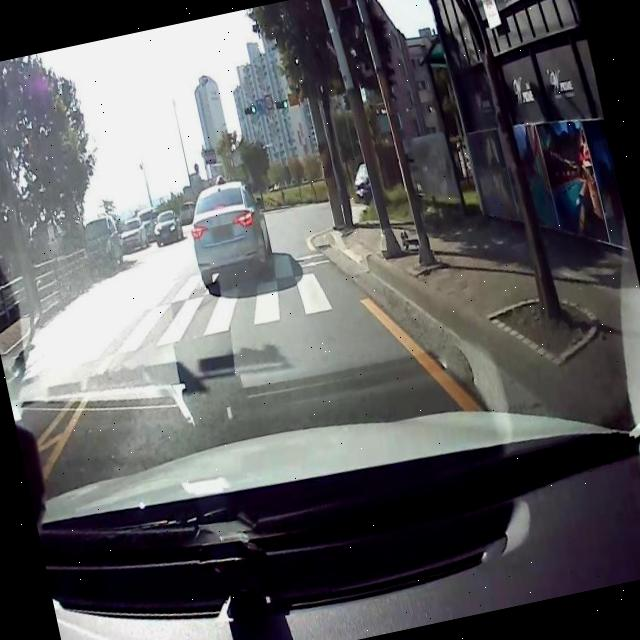crosswalk: (21, 246, 360, 371)
